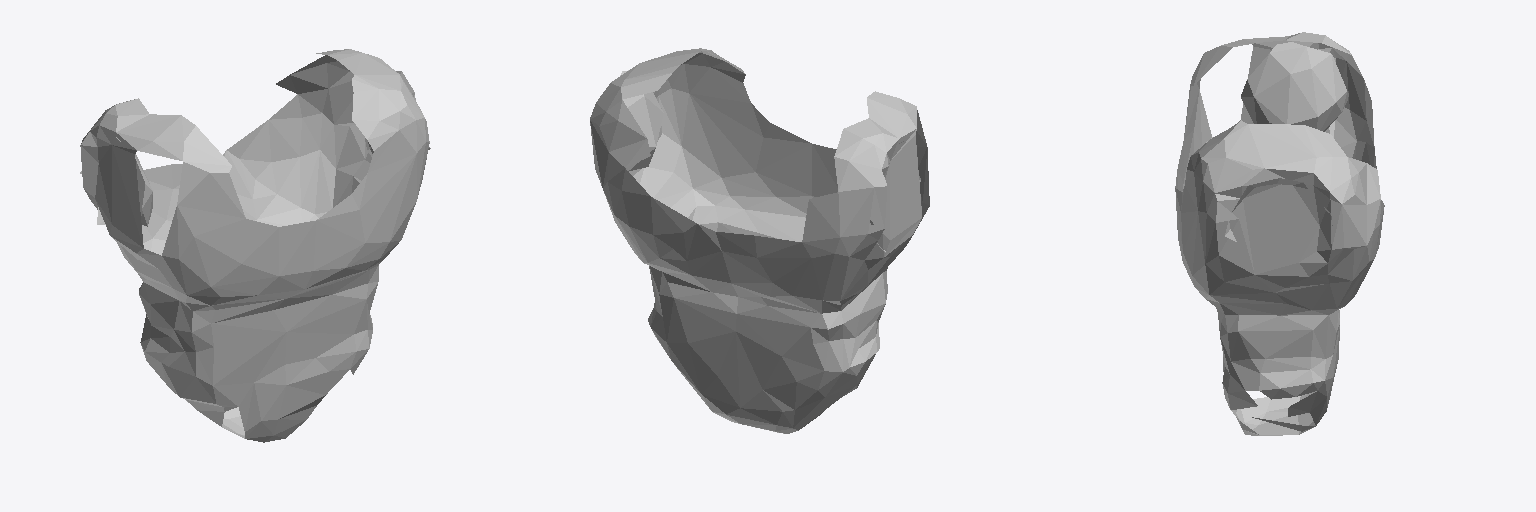
File: Body.obj
The picture shows the model from 3 angles: view 1: azimuth 30°, elevation 25°; view 2: azimuth 150°, elevation 25°; view 3: azimuth 270°, elevation 25°; orthographic projection.
Visible parts, largest first — view 1: Stone:Mesh; view 2: Stone:Mesh; view 3: Stone:Mesh.
Boxes of the visible parts, box(x1,y1,x2,y2) form: Stone:Mesh: box(80, 49, 430, 442); Stone:Mesh: box(590, 48, 929, 433); Stone:Mesh: box(1175, 32, 1384, 435).
Bounding box in the file's own units: 4.83 × 5.41 × 2.97.